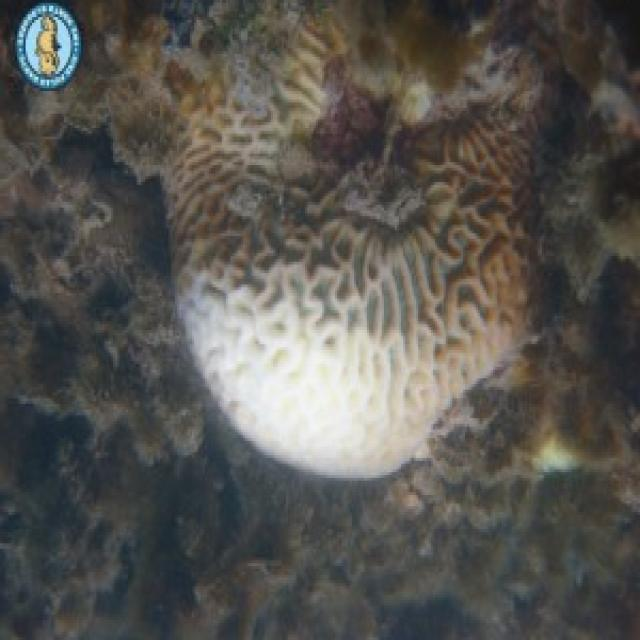Bleached: (174, 248, 511, 481)
Healthy: (170, 1, 531, 236)
